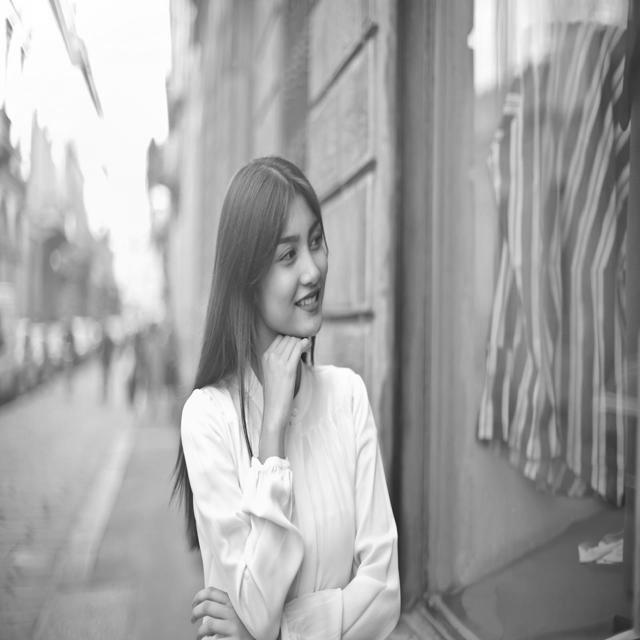Happiness: (265, 194, 332, 338)
